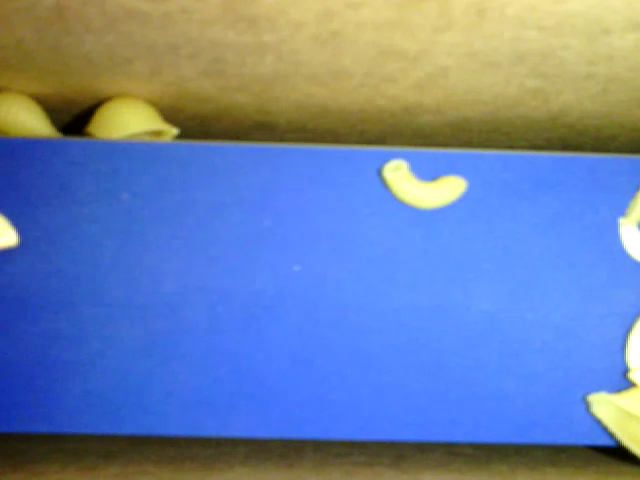elbow: (378, 155, 467, 211)
shell: (88, 96, 178, 143), (584, 387, 639, 454), (1, 86, 64, 135)
tortellini: (616, 184, 639, 262)
